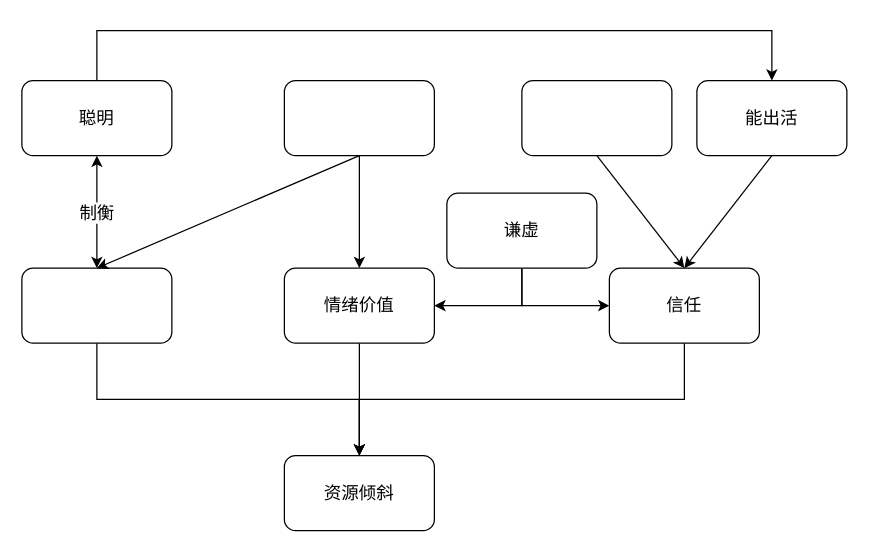
This 869x553 diagram has some shape labels left out. The shapes that lost their labels are listed below. From the top down, each one's box as (x1, y1, x2, y2) in pixels, then its label:
(283, 79, 434, 156): 拍马屁
(521, 79, 672, 156): 勤力
(21, 267, 172, 343): 安全
